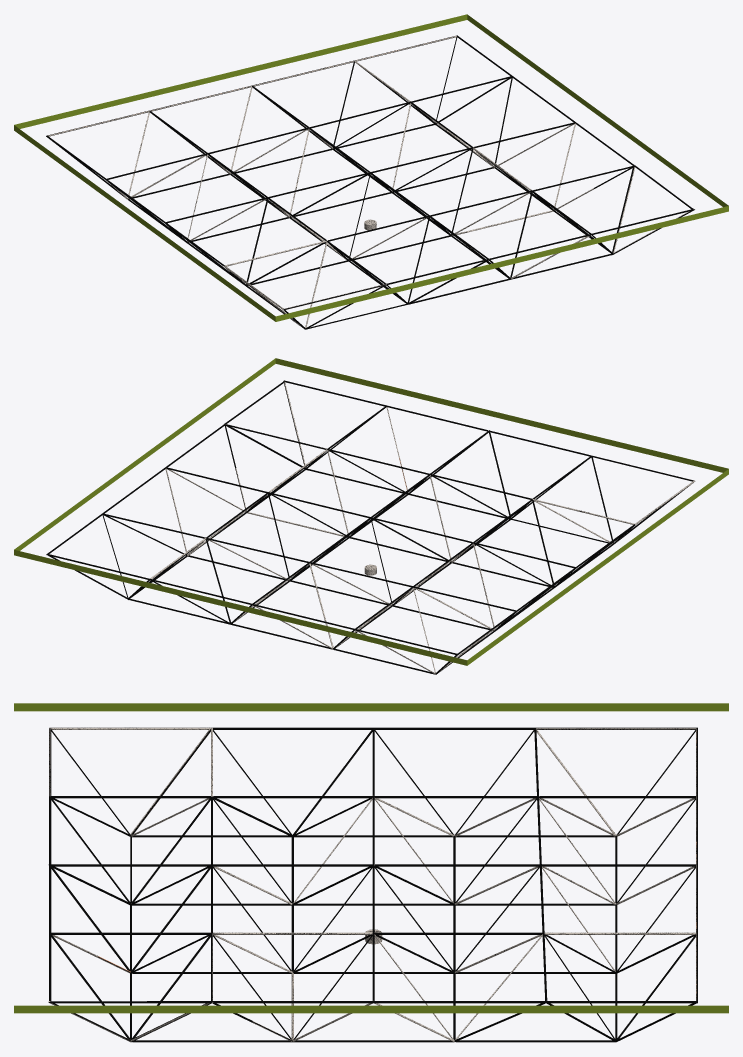
3 views of the same model, one above another, from view 1: azimuth 30°, elevation 25°; view 2: azimuth 150°, elevation 25°; view 3: azimuth 270°, elevation 25° (orthographic). The views are drawn at different scales.
Visible parts, largest first — view 1: instance_0_255, instance_0_029, instance_0_124, instance_0_119, instance_0_014, instance_0_031, instance_0_117, instance_0_006; view 2: instance_0_255, instance_0_029, instance_0_124, instance_0_119, instance_0_014, instance_0_006, instance_0_031, instance_0_003; view 3: instance_0_255, instance_0_029, instance_0_124, instance_0_003, instance_0_031, instance_0_014, instance_0_068, instance_0_088, instance_0_006, instance_0_119, instance_0_101, instance_0_008 (+2 smaller).
Part boxes in pixels (x1,y1,x2,y2): instance_0_255: [14, 14, 728, 321]; instance_0_029: [46, 35, 694, 265]; instance_0_124: [269, 102, 574, 215]; instance_0_119: [107, 76, 511, 179]; instance_0_014: [246, 190, 531, 285]; instance_0_031: [490, 190, 693, 259]; instance_0_117: [48, 36, 456, 136]; instance_0_006: [408, 253, 612, 304]; instance_0_255: [14, 358, 728, 665]; instance_0_029: [46, 380, 635, 655]; instance_0_124: [166, 467, 472, 543]; instance_0_119: [103, 513, 515, 611]; instance_0_014: [328, 430, 554, 586]; instance_0_006: [306, 430, 511, 519]; instance_0_031: [284, 380, 487, 469]; instance_0_003: [396, 463, 629, 603]; instance_0_255: [14, 703, 728, 1013]; instance_0_029: [48, 727, 697, 1042]; instance_0_124: [212, 796, 542, 1000]; instance_0_003: [51, 731, 453, 905]; instance_0_031: [49, 865, 371, 1039]; instance_0_014: [50, 796, 292, 932]; instance_0_068: [293, 729, 452, 837]; instance_0_088: [132, 1040, 453, 1042]; instance_0_006: [48, 864, 131, 1038]; instance_0_119: [534, 728, 547, 1000]; instance_0_101: [456, 729, 695, 837]; instance_0_008: [49, 796, 210, 864].
Bounding box in the file's own units: 1.07 × 1.07 × 0.142.
